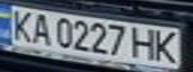0: (51, 16, 75, 50)
2: (69, 17, 93, 53), (87, 20, 109, 55)
7: (106, 21, 130, 57)
A: (27, 11, 54, 46)
H: (130, 26, 160, 61)
K: (3, 7, 39, 43), (151, 29, 181, 64)
